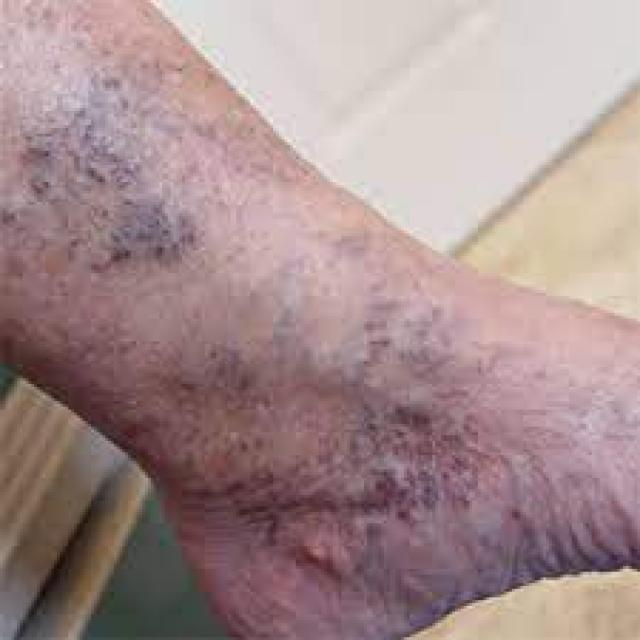Eczema: (18, 44, 466, 546)
